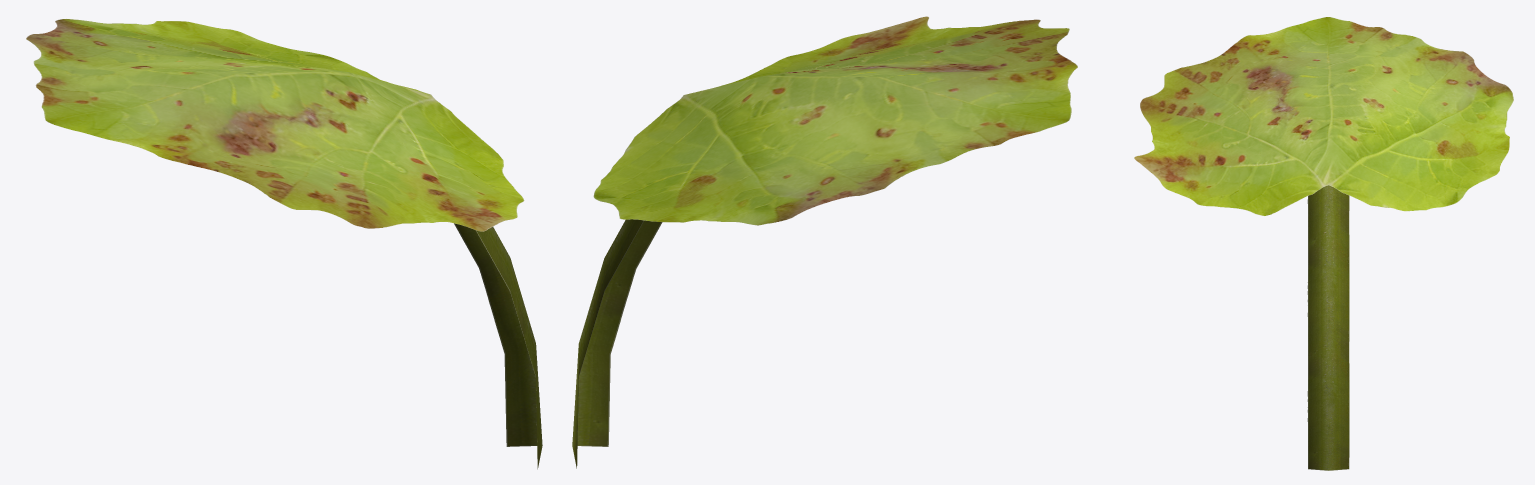
The model's file is Round5.fbx.
The picture shows the model from 3 angles, left to right: view 1: azimuth 30°, elevation 25°; view 2: azimuth 150°, elevation 25°; view 3: azimuth 270°, elevation 25°; orthographic projection. The views are drawn at different scales.
Parts seen in each view (by area): view 1: Round5; view 2: Round5; view 3: Round5.
Boxes of the visible parts, x1,y1,x2,y2 form: Round5: (26, 19, 542, 469); Round5: (572, 16, 1077, 468); Round5: (1134, 17, 1513, 470).
Size of the model in its own units: 0.6127 by 0.5291 by 0.6236.
